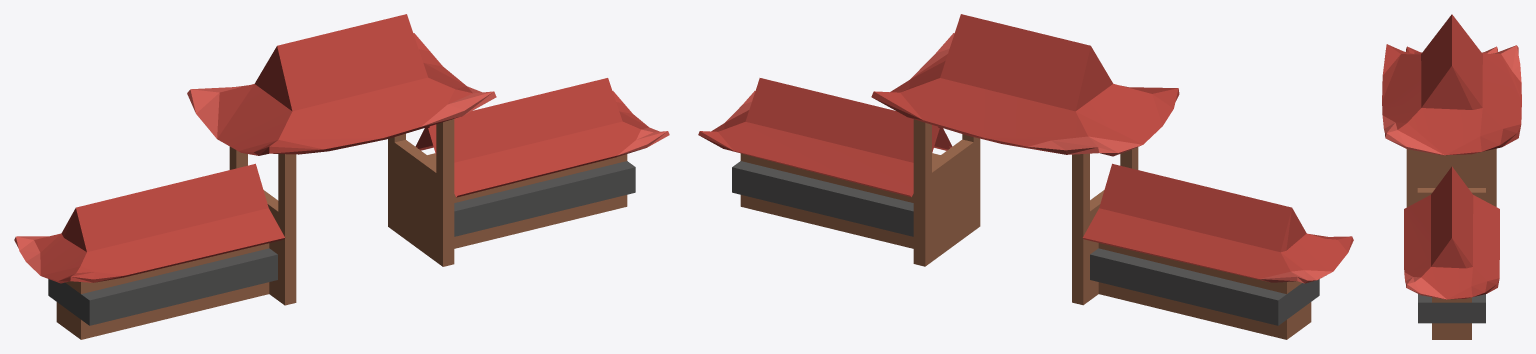
The model's file is building_8.fbx.
The picture shows the model from 3 angles, left to right: view 1: azimuth 30°, elevation 25°; view 2: azimuth 150°, elevation 25°; view 3: azimuth 270°, elevation 25°; orthographic projection. The views are drawn at different scales.
Visible parts, largest first — view 1: building_8; view 2: building_8; view 3: building_8.
Part boxes in pixels (<box>): building_8: <box>14,14,669,339</box>; building_8: <box>698,14,1353,339</box>; building_8: <box>1382,14,1521,339</box>.
Bounding box in the file's own units: 1643 × 606 × 401.
